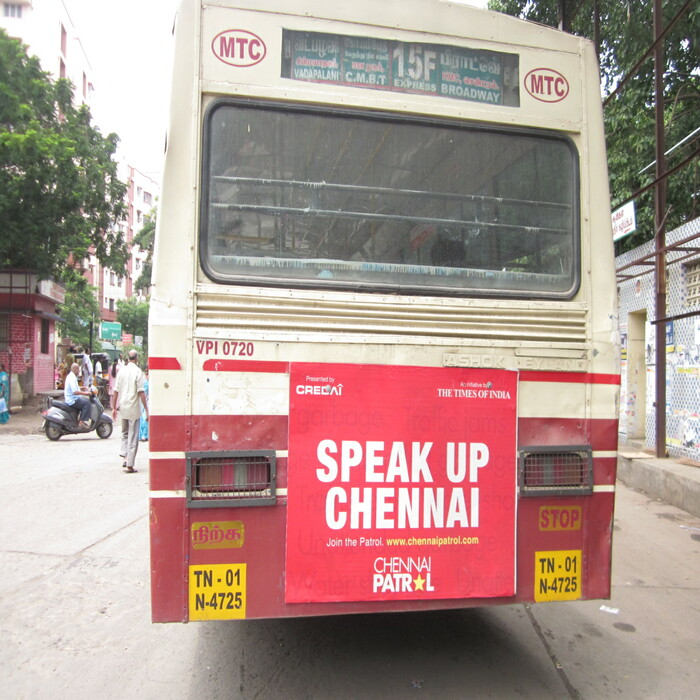n: (190, 568, 243, 617), (533, 555, 583, 598)
